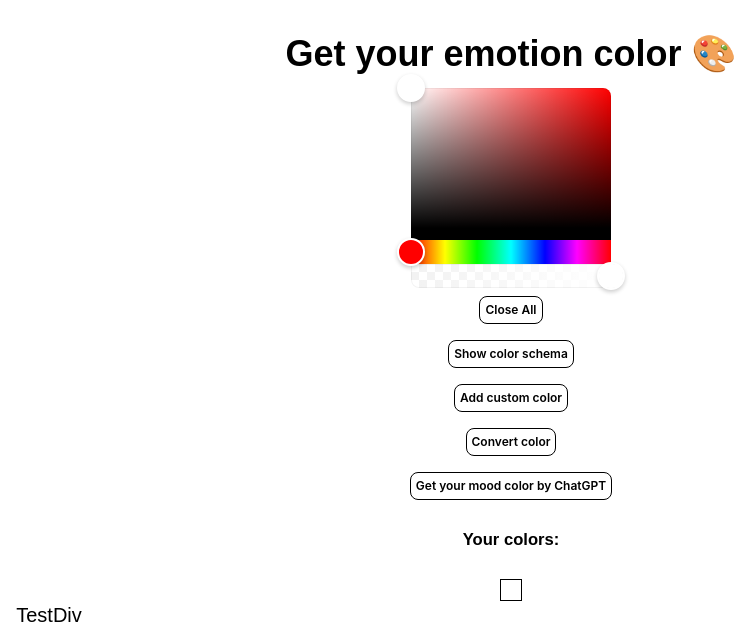
Test: App test suite › after pressing button, form for adding color is available
Click the button with test id "add-color": (511, 398) [454,384,568,412]
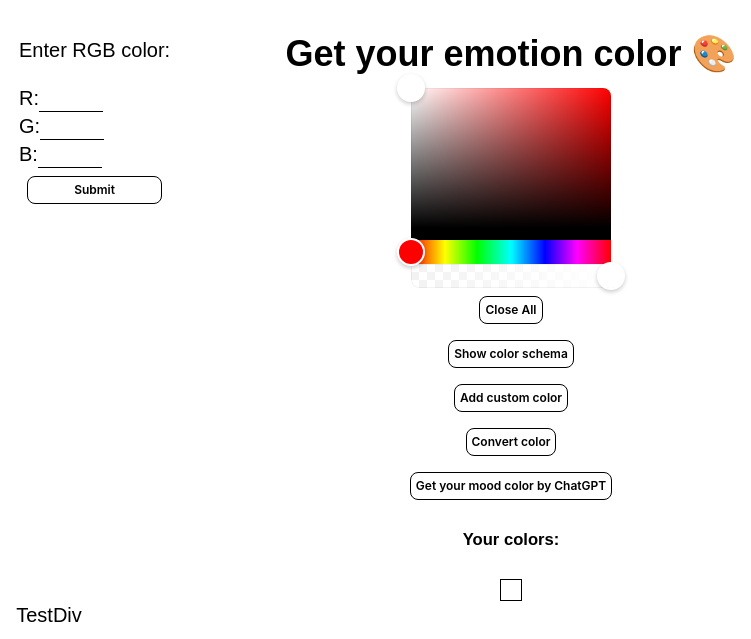
Check: the form with test id "color-input-form" is shown, box [19,16,170,212]
